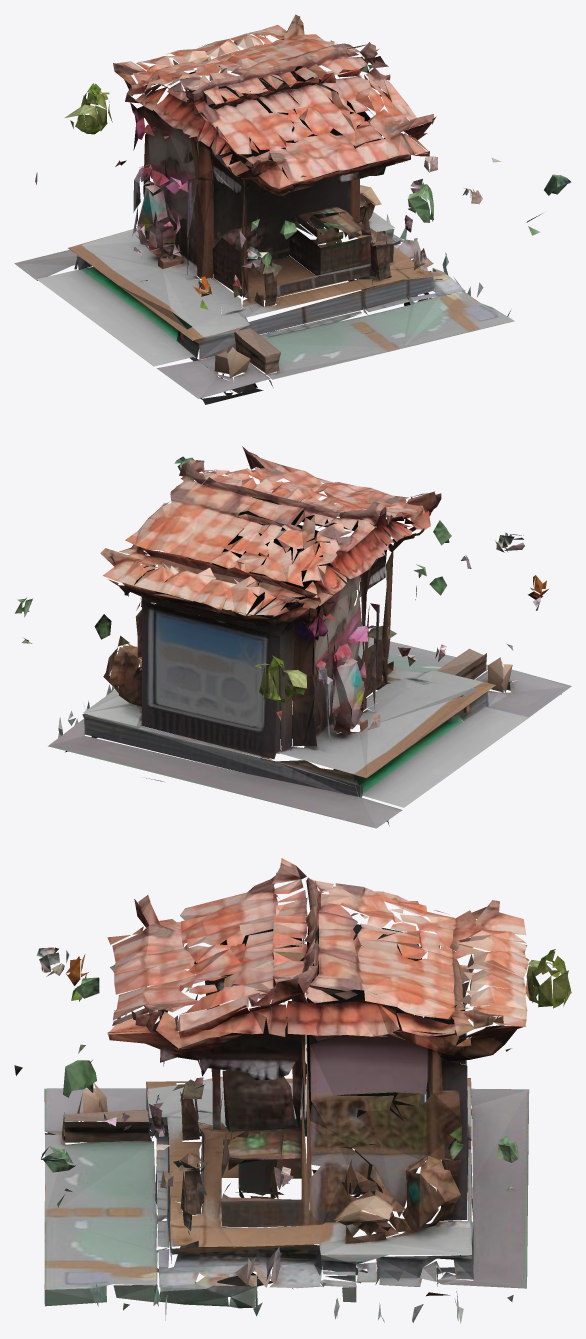
The model's file is shop_house.glb.
The picture shows the model from 3 angles, top to bottom: view 1: azimuth 30°, elevation 25°; view 2: azimuth 150°, elevation 25°; view 3: azimuth 270°, elevation 25°; orthographic projection. The views are drawn at different scales.
Parts seen in each view (by area): view 1: geometry_0; view 2: geometry_0; view 3: geometry_0.
Boxes of the visible parts, x1=… form: geometry_0: x1=14, y1=14, x2=571, y2=404; geometry_0: x1=15, y1=446, x2=571, y2=828; geometry_0: x1=14, y1=858, x2=571, y2=1323.
Bounding box in the file's own units: 0.9151 × 0.5341 × 0.8652.
Materials: 1 (1 with a texture image).
